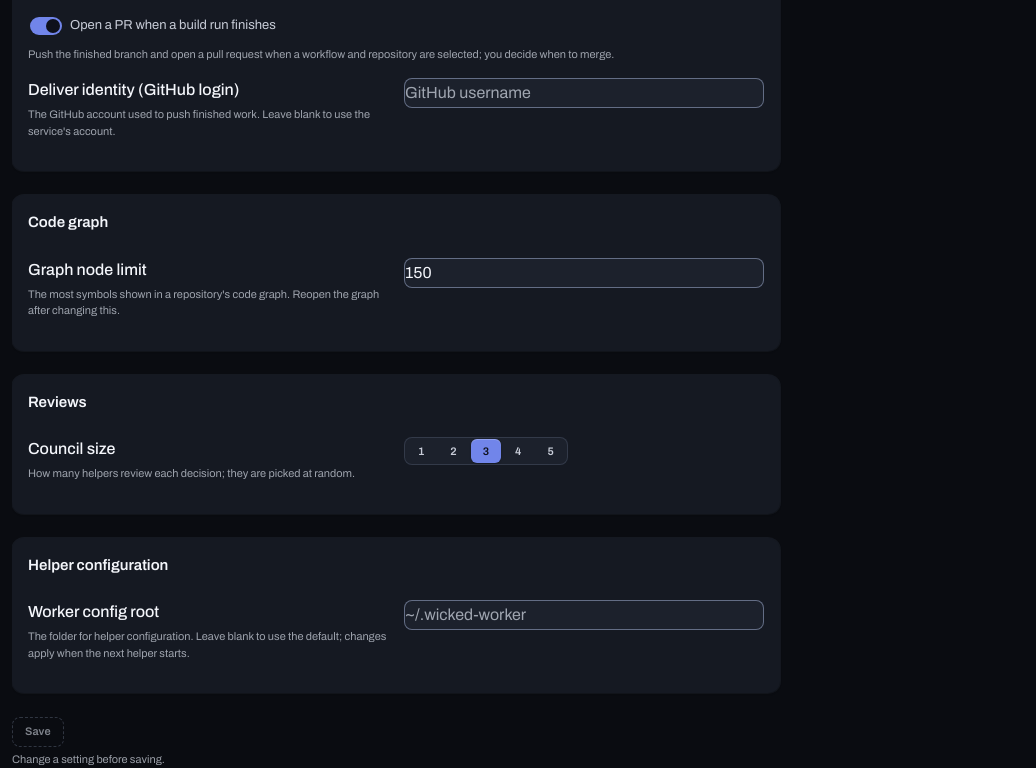
Test: SystemSettings — worker config root › mirrors the daemon rule client-side: a relative path shows the inline hint
(page scrolled)
Type "relative/path" into the field named "Worker config root".
click(584, 615); type("relative/path")  # box [404,600,764,630]
(page scrolled)
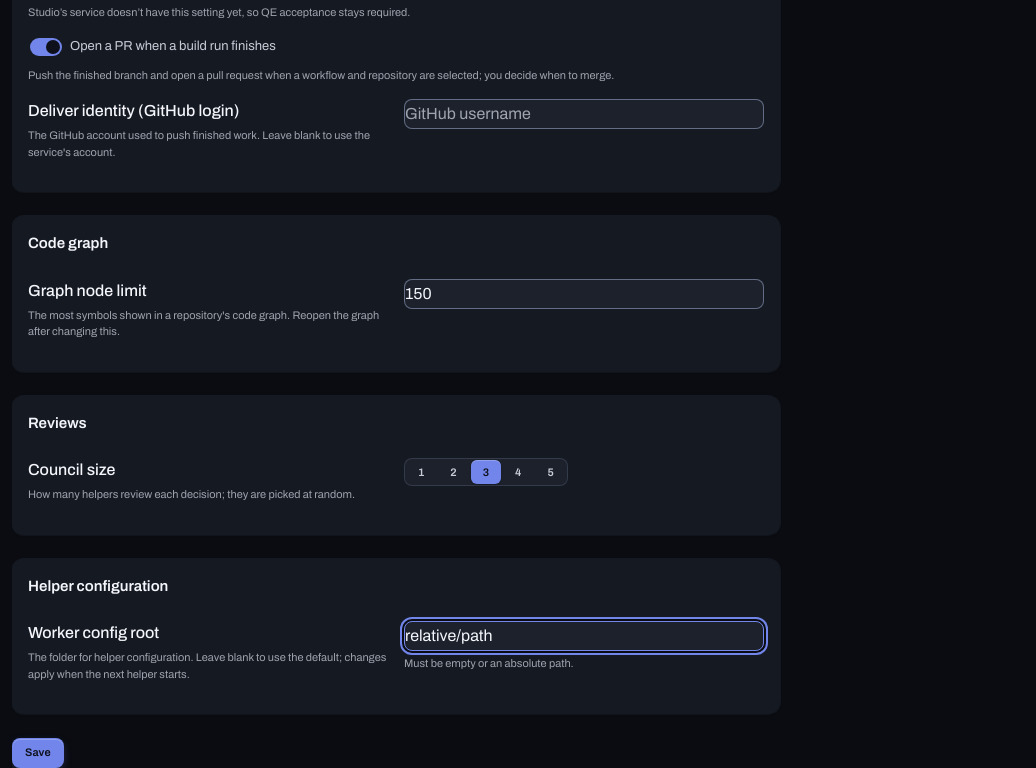
expect the text with test id "worker-root-invalid" reads "Must be empty or an absolute path.": met, box [404,657,574,669]
Note: Emptying the field clears the mirror hint (empty is valid).
Clear the field named "Worker config root" at (584, 636), box [404,621,764,651]
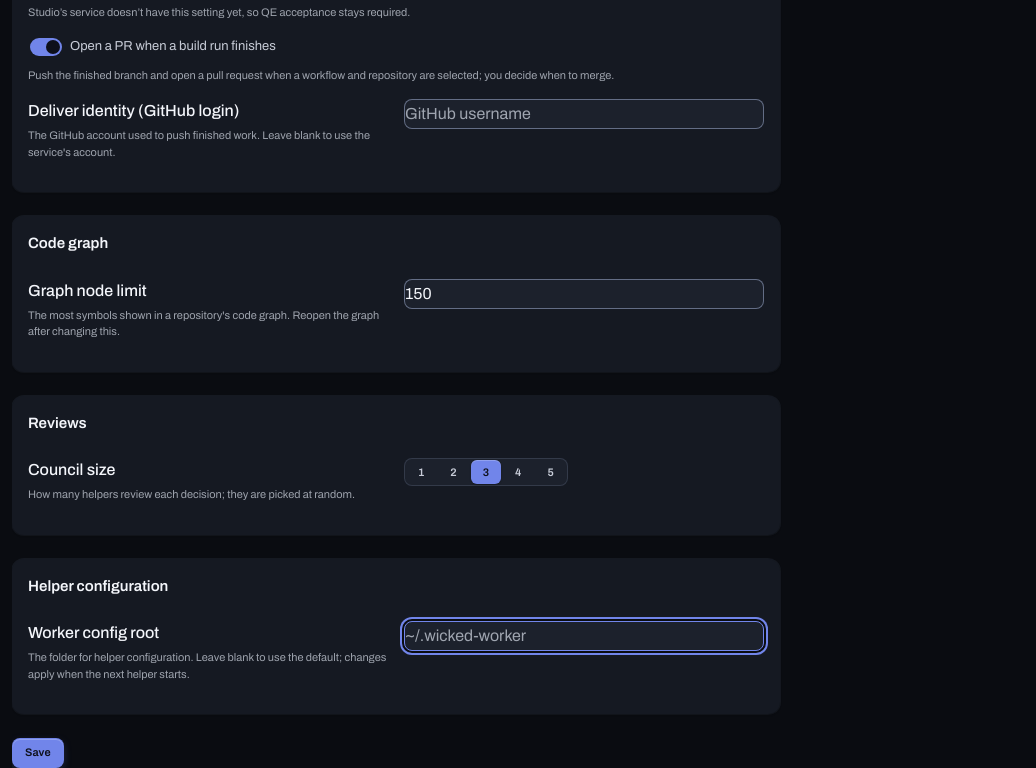
expect the text with test id "worker-root-invalid" is gone: met
